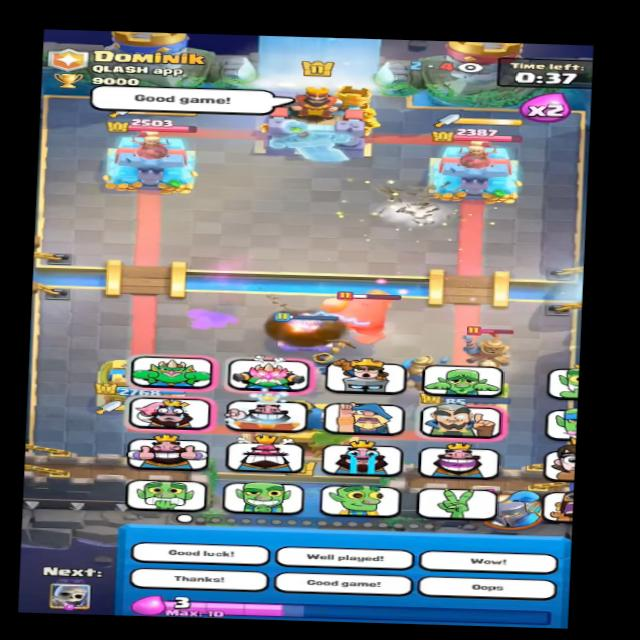giant: (317, 290, 425, 346)
prince: (458, 325, 519, 377)
